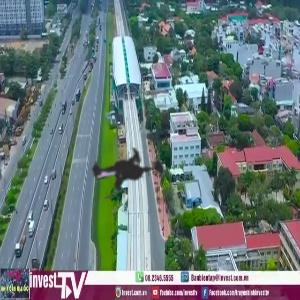drone: (54, 94, 198, 238)
